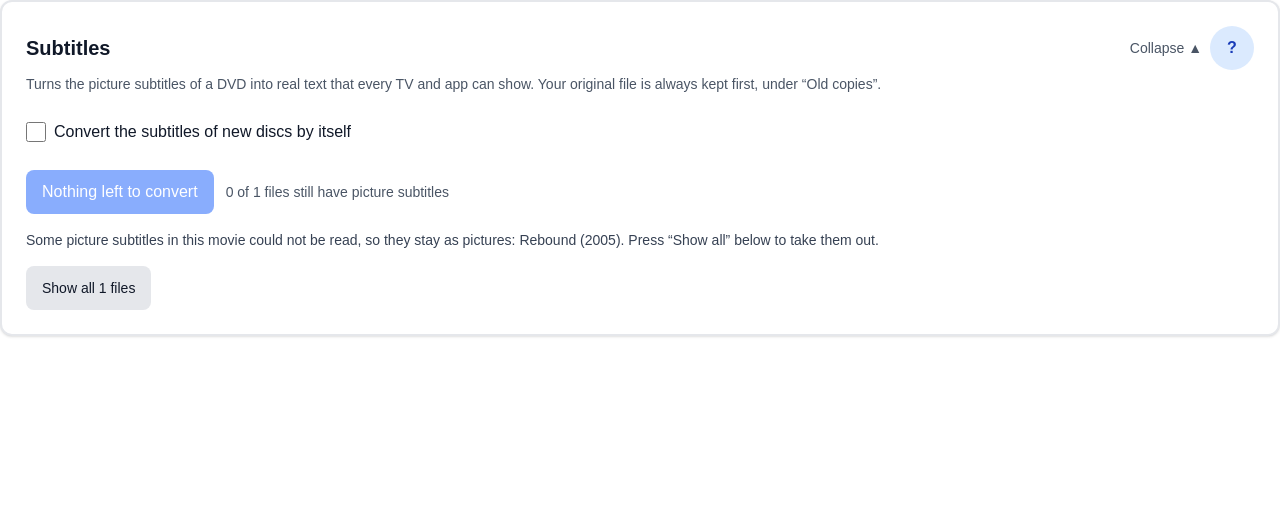
it: picture subtitles that could not be read › the full list says it on the file, instead of a tick
Click the button "Show all 1 files": x=89, y=288 [26,266,151,310]
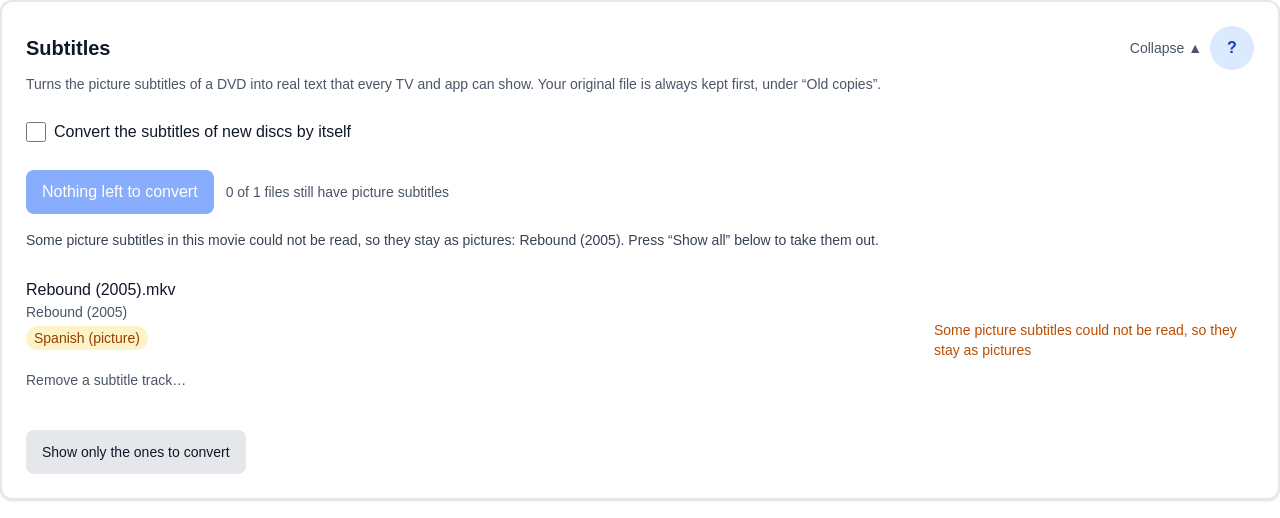
Now the text "Some picture subtitles could not be read, so" shows "stay as pictures", box [934,322,1237,358]
